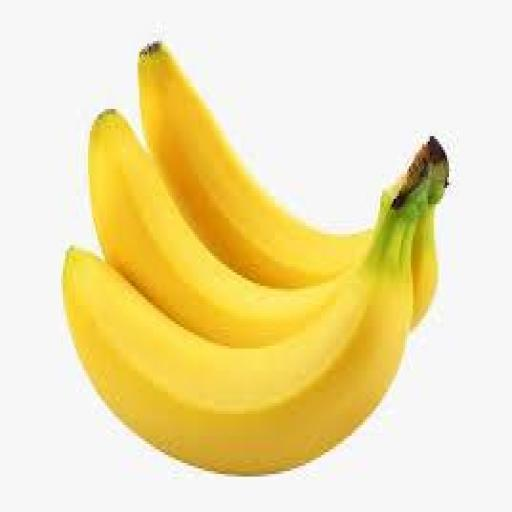banana: (64, 183, 427, 473), (88, 112, 336, 345), (138, 44, 370, 288)
